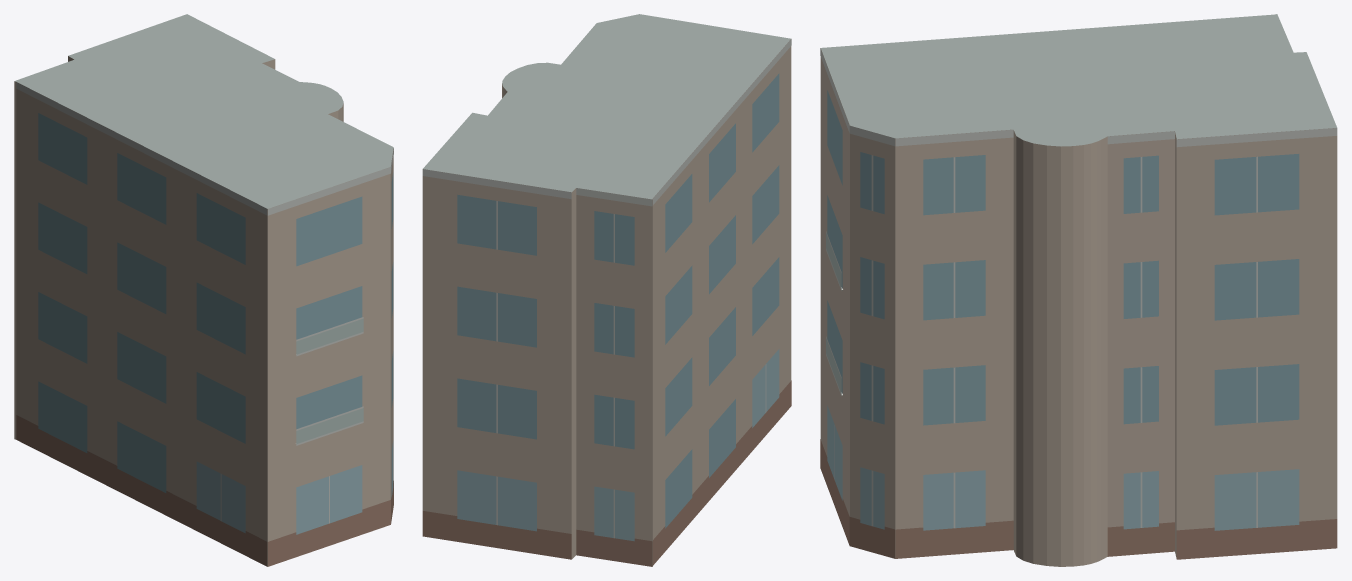
File: survey-upis-32952833.glb
3 renders of one model, left to right at view 1: azimuth 30°, elevation 25°; view 2: azimuth 150°, elevation 25°; view 3: azimuth 270°, elevation 25°, orthographic. The views are drawn at different scales.
Parts seen in each view (by area): view 1: survey-upis-32952833.tmp; view 2: survey-upis-32952833.tmp; view 3: survey-upis-32952833.tmp.
Boxes of the visible parts, <box> form: survey-upis-32952833.tmp: <box>14,14,393,566</box>; survey-upis-32952833.tmp: <box>422,14,791,566</box>; survey-upis-32952833.tmp: <box>820,14,1337,566</box>.
Size of the model in its own units: 8.65 by 12.8 by 14.27.
